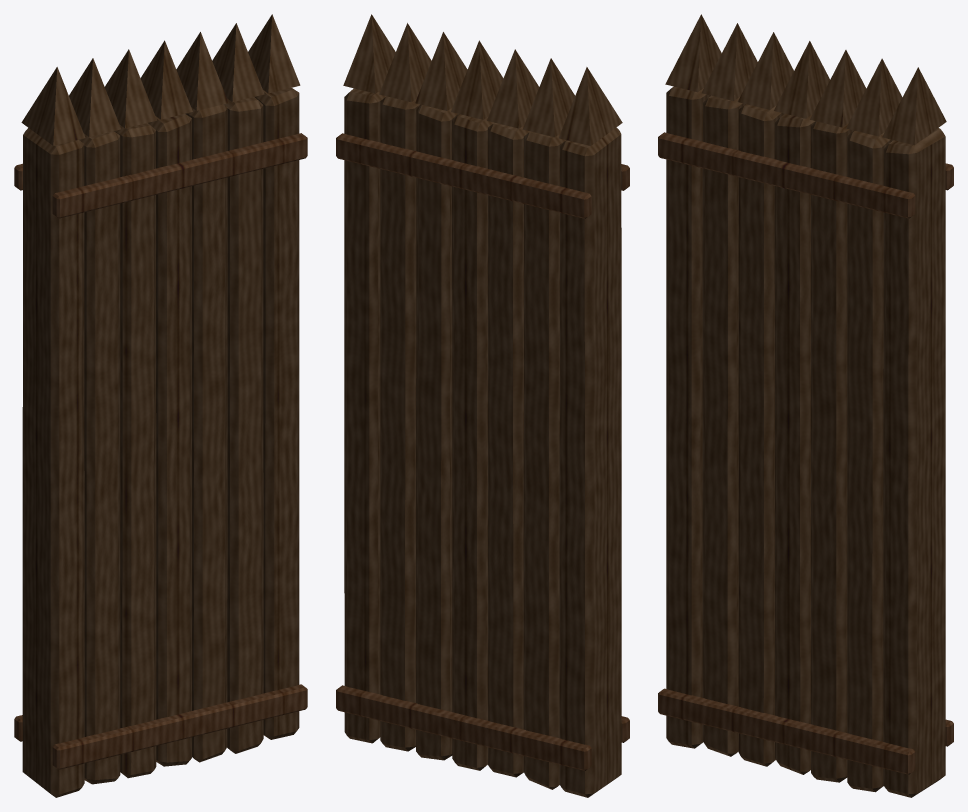
Rendered from wall_palisade_a.glb.
The picture shows the model from 3 angles, left to right: view 1: azimuth 30°, elevation 25°; view 2: azimuth 150°, elevation 25°; view 3: azimuth 330°, elevation 25°; orthographic projection.
Visible parts, largest first — view 1: wall_palisade_a; view 2: wall_palisade_a; view 3: wall_palisade_a.
Boxes of the visible parts, bbox=[...] form: wall_palisade_a: bbox=[14, 14, 307, 797]; wall_palisade_a: bbox=[336, 14, 629, 797]; wall_palisade_a: bbox=[658, 14, 953, 797].
Size of the model in its own units: 1 by 2.73 by 0.309.
2 materials, 2 textured.
